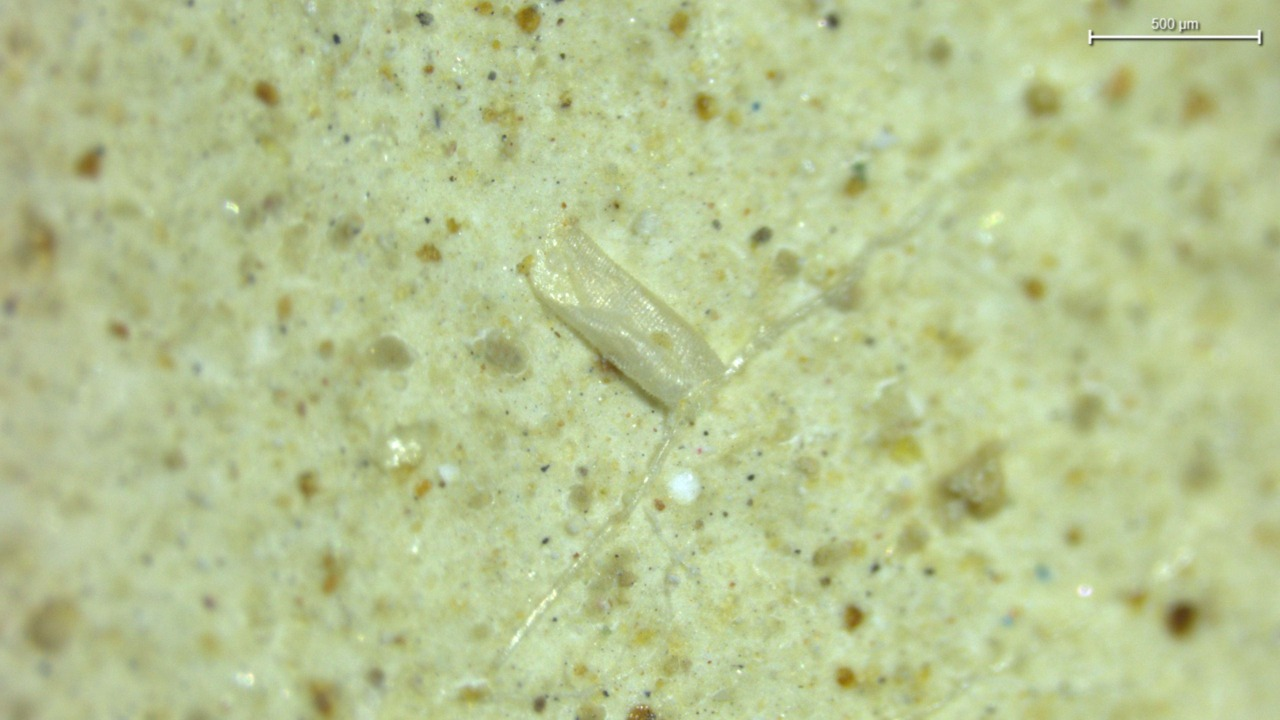microplastic_fragment: (520, 220, 726, 407)
